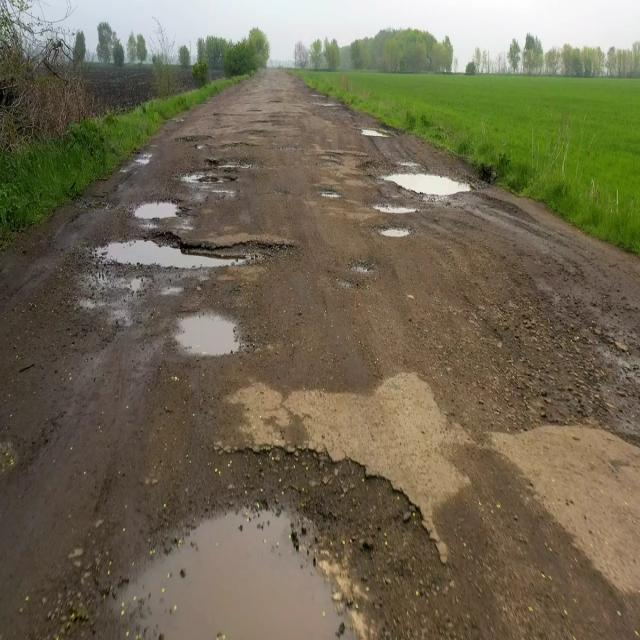road-pothole: (121, 513, 354, 629), (103, 239, 243, 270), (176, 309, 234, 358), (384, 175, 468, 196), (137, 196, 180, 225), (376, 203, 413, 220), (198, 181, 237, 188), (363, 129, 384, 141), (384, 230, 407, 240)
